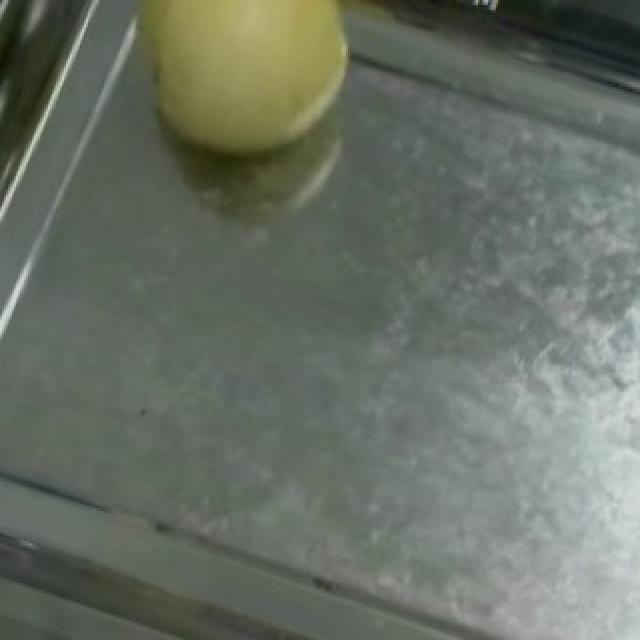Fruit: (90, 0, 390, 193)
